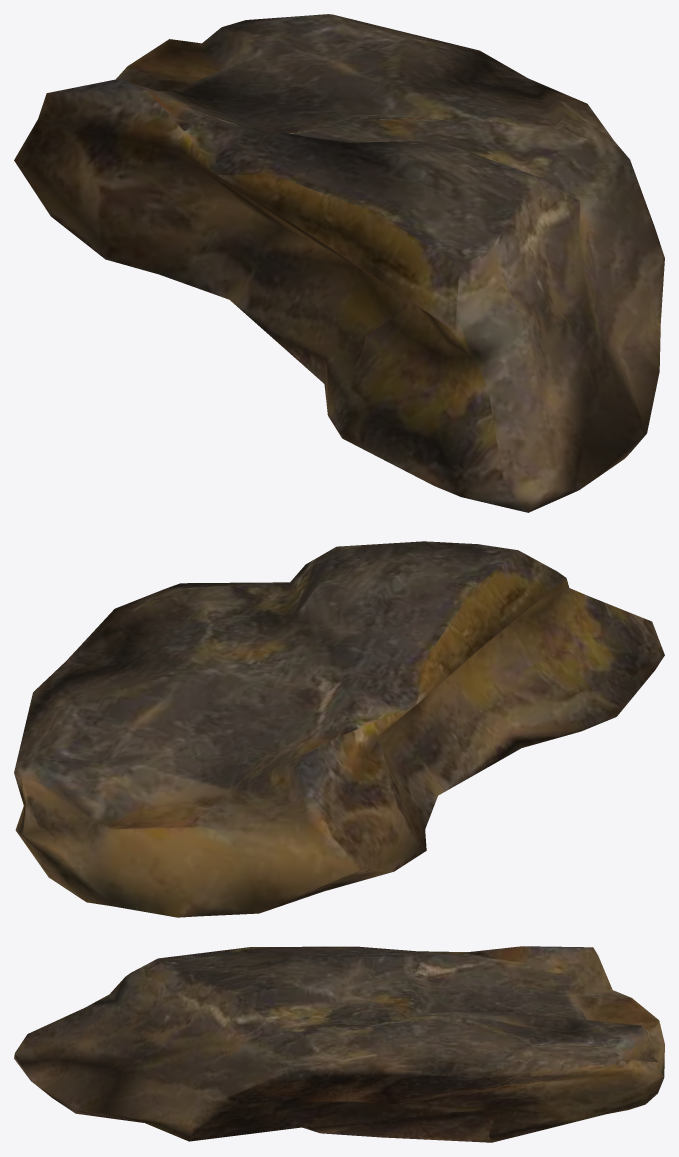
The model's file is rock_small.glb.
3 views of the same model, one above another, from view 1: azimuth 30°, elevation 25°; view 2: azimuth 150°, elevation 25°; view 3: azimuth 270°, elevation 25° (orthographic). The views are drawn at different scales.
Parts seen in each view (by area): view 1: rock_09_LOD0; view 2: rock_09_LOD0; view 3: rock_09_LOD0.
Boxes of the visible parts, x1,y1,x2,y2 form: rock_09_LOD0: [14, 14, 664, 512]; rock_09_LOD0: [14, 541, 664, 917]; rock_09_LOD0: [14, 946, 664, 1142].
Bounding box in the file's own units: 0.0738 × 0.0326 × 0.1429.
1 material, 1 textured.
